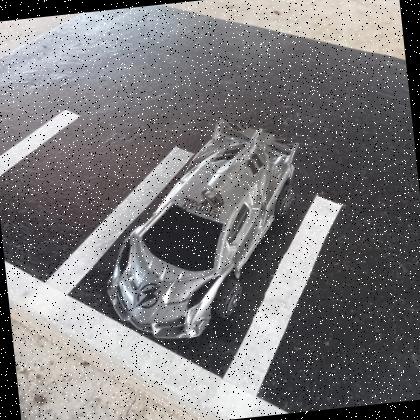Car: (107, 122, 297, 342)
